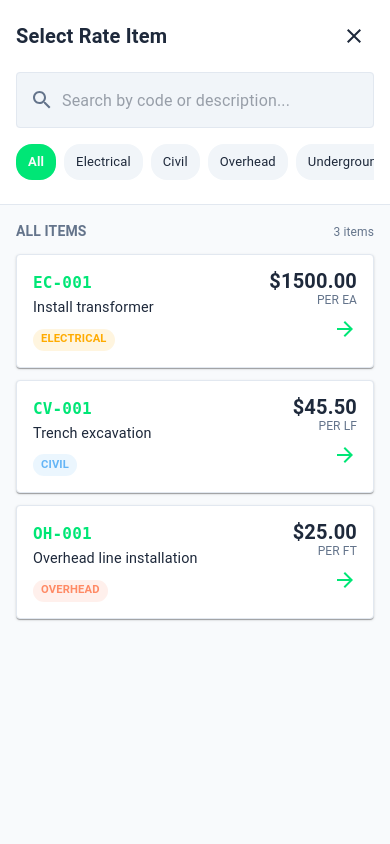
Test: PriceBookSelector Component › Search › should filter items by search query
Expected: the text "EC-001" is shown, top-left (33, 271), bottom-right (92, 295)
Type "transformer" into the field with placeholder "Search by code or description..." at (218, 100), box top-left (62, 72), bottom-right (374, 128)
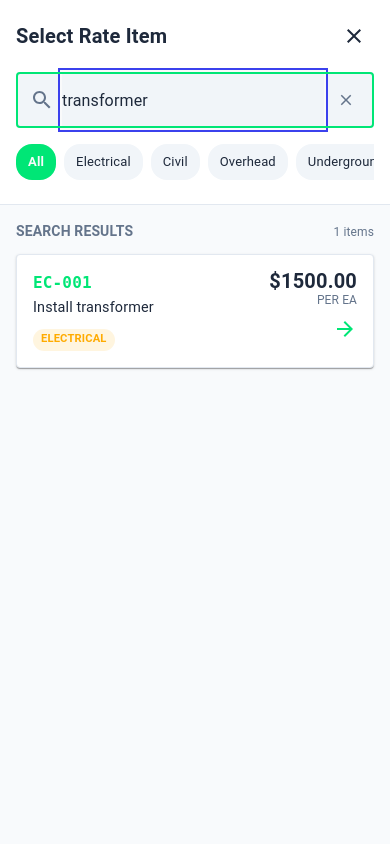
Expected: the text "EC-001" is shown, top-left (33, 271), bottom-right (92, 295)
Now the text "CV-001" is gone
